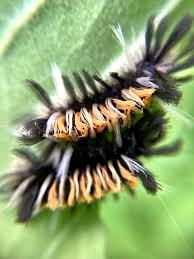Caterpillar: (10, 142, 164, 225), (35, 63, 171, 139)
